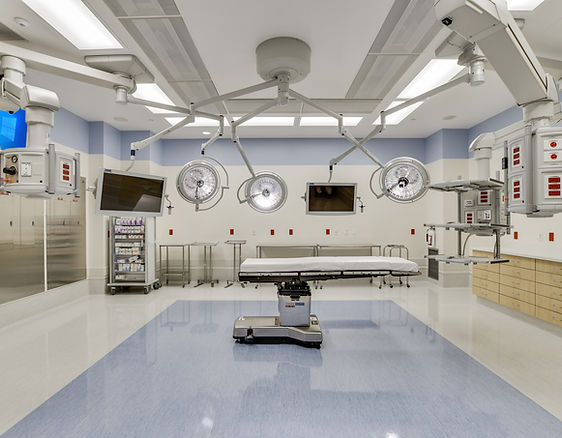bedside_monitor: (95, 167, 168, 218), (305, 184, 356, 215)
drawer: (466, 246, 562, 333)
handle: (549, 278, 562, 283), (549, 291, 562, 296), (549, 304, 562, 309), (549, 317, 562, 322), (476, 291, 489, 296), (477, 282, 490, 287), (477, 272, 490, 277), (478, 263, 491, 268), (511, 259, 524, 264), (511, 268, 524, 273), (509, 292, 522, 297), (510, 280, 523, 285), (509, 303, 522, 308)
medical_drawer: (109, 212, 157, 288)
operating_bed: (231, 253, 422, 351)
surgical_light: (379, 156, 432, 204), (177, 159, 221, 204), (246, 170, 289, 214)
utility_cart: (314, 239, 382, 290), (253, 244, 317, 284), (383, 242, 411, 290), (158, 243, 187, 289), (190, 241, 219, 287), (223, 241, 252, 287)
